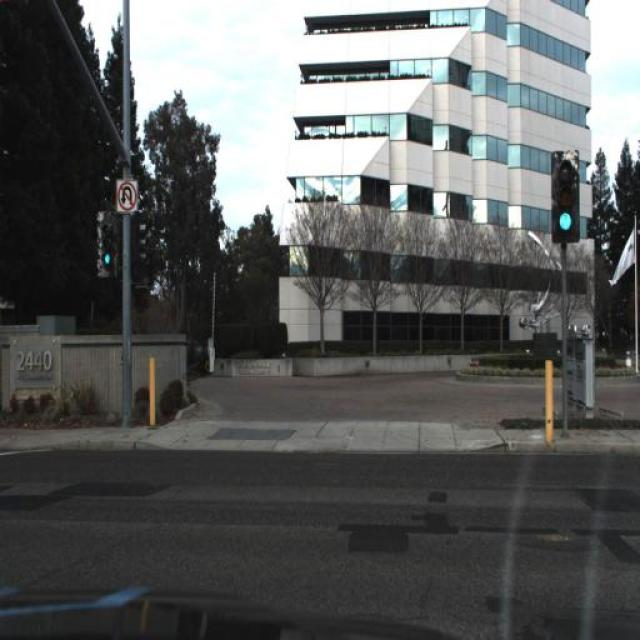trafficLight-GreenLeft: (553, 152, 578, 237), (101, 224, 111, 274)
